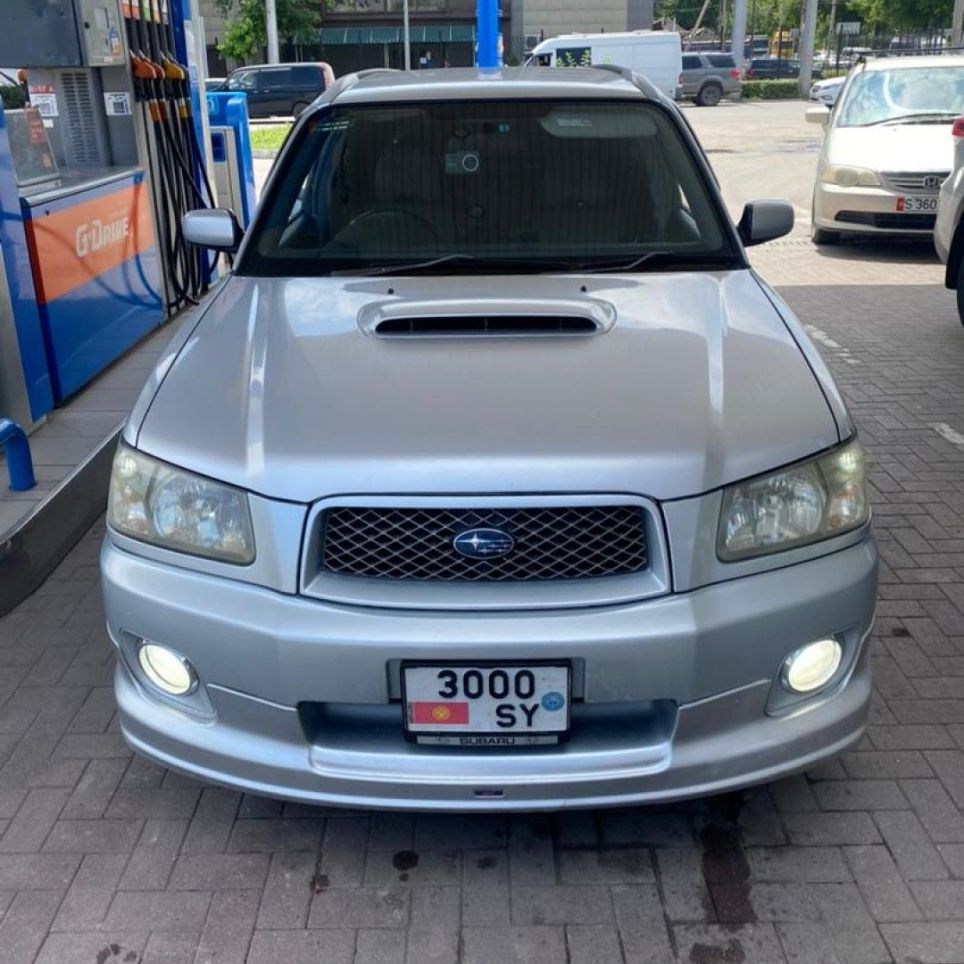license plate: (401, 661, 568, 750)
truck: (101, 61, 877, 818)
